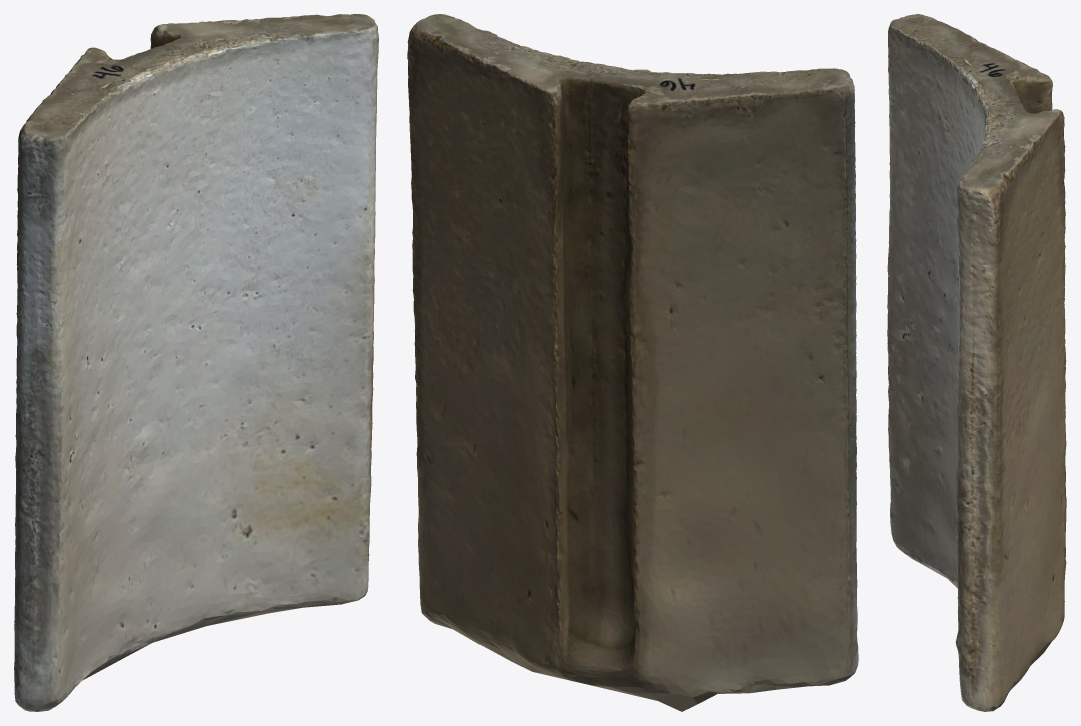
File: Pixel 46.glb
3 views of the same model, side by side, from view 1: azimuth 30°, elevation 25°; view 2: azimuth 150°, elevation 25°; view 3: azimuth 270°, elevation 25° (orthographic). The views are drawn at different scales.
Bounding box in the file's own units: 0.1859 × 0.2717 × 0.0794.
Materials: 1 (1 with a texture image).
